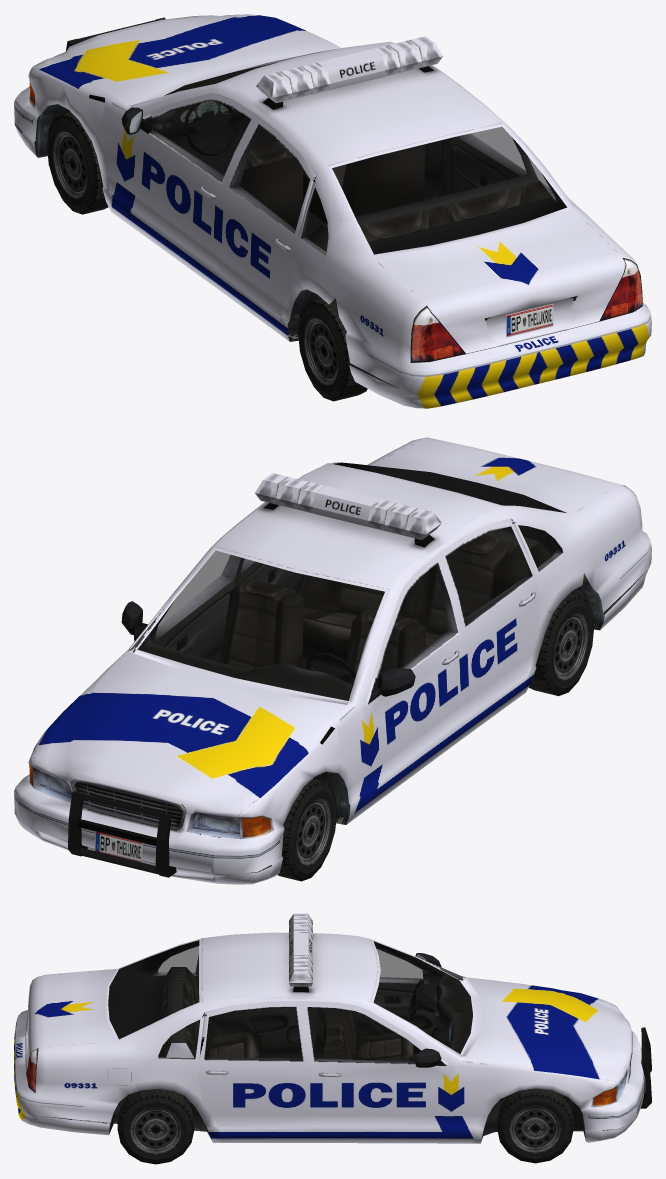
Rendered from police_car.fbx.
3 renders of one model, top to bottom at view 1: azimuth 30°, elevation 25°; view 2: azimuth 150°, elevation 25°; view 3: azimuth 270°, elevation 25°, orthographic. The views are drawn at different scales.
Visible parts, largest first — view 1: Mesh1 us_police_1 Model, Mesh6 us_police_1 Model, Mesh26 us_police_1 Model, Mesh13 us_police_1 Model, Mesh12 us_police_1 Model, Mesh27 us_police_1 Model, Mesh25 us_police_1 Model, Mesh3 us_police_1 Model; view 2: Mesh1 us_police_1 Model, Mesh26 us_police_1 Model, Mesh6 us_police_1 Model, Mesh13 us_police_1 Model, Mesh12 us_police_1 Model, Mesh8 us_police_1 Model, Mesh27 us_police_1 Model, Mesh2 us_police_1 Model, Mesh16 us_police_1 Model, Mesh25 us_police_1 Model; view 3: Mesh1 us_police_1 Model, Mesh15 us_police_1 Model, Mesh14 us_police_1 Model, Mesh27 us_police_1 Model, Mesh6 us_police_1 Model, Mesh26 us_police_1 Model, Mesh8 us_police_1 Model, Mesh25 us_police_1 Model, Mesh21 us_police_1 Model.
Boxes of the visible parts, <box> form: Mesh1 us_police_1 Model: <box>14,14,651,408</box>; Mesh6 us_police_1 Model: <box>256,36,443,109</box>; Mesh26 us_police_1 Model: <box>302,144,425,223</box>; Mesh13 us_police_1 Model: <box>298,299,367,401</box>; Mesh12 us_police_1 Model: <box>47,112,108,214</box>; Mesh27 us_police_1 Model: <box>230,141,303,229</box>; Mesh25 us_police_1 Model: <box>184,103,236,155</box>; Mesh3 us_police_1 Model: <box>506,304,553,337</box>; Mesh1 us_police_1 Model: <box>14,437,651,884</box>; Mesh26 us_police_1 Model: <box>220,578,303,668</box>; Mesh6 us_police_1 Model: <box>255,473,441,547</box>; Mesh13 us_police_1 Model: <box>528,593,594,696</box>; Mesh12 us_police_1 Model: <box>277,779,336,881</box>; Mesh8 us_police_1 Model: <box>68,791,176,877</box>; Mesh27 us_police_1 Model: <box>345,608,425,683</box>; Mesh2 us_police_1 Model: <box>94,831,142,862</box>; Mesh16 us_police_1 Model: <box>377,668,415,696</box>; Mesh25 us_police_1 Model: <box>306,653,356,685</box>; Mesh1 us_police_1 Model: <box>14,932,644,1143</box>; Mesh15 us_police_1 Model: <box>117,1089,194,1164</box>; Mesh14 us_police_1 Model: <box>497,1088,573,1163</box>; Mesh27 us_police_1 Model: <box>324,1007,413,1061</box>; Mesh6 us_police_1 Model: <box>289,913,312,992</box>; Mesh26 us_police_1 Model: <box>323,1023,352,1059</box>; Mesh8 us_police_1 Model: <box>640,1027,651,1108</box>; Mesh25 us_police_1 Model: <box>406,980,435,1022</box>; Mesh21 us_police_1 Model: <box>415,1048,441,1067</box>.
Size of the model in its own units: 5.75 by 4.5 by 14.68.
